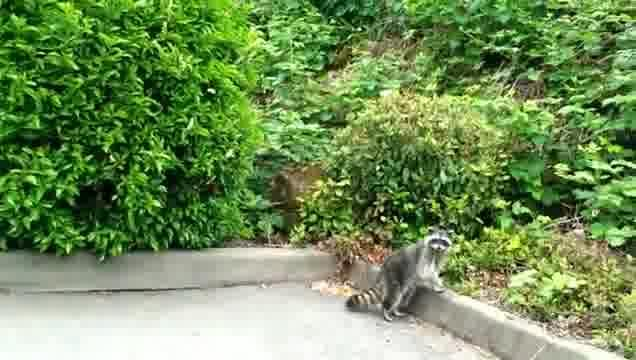raccoon: (345, 229, 453, 321)
